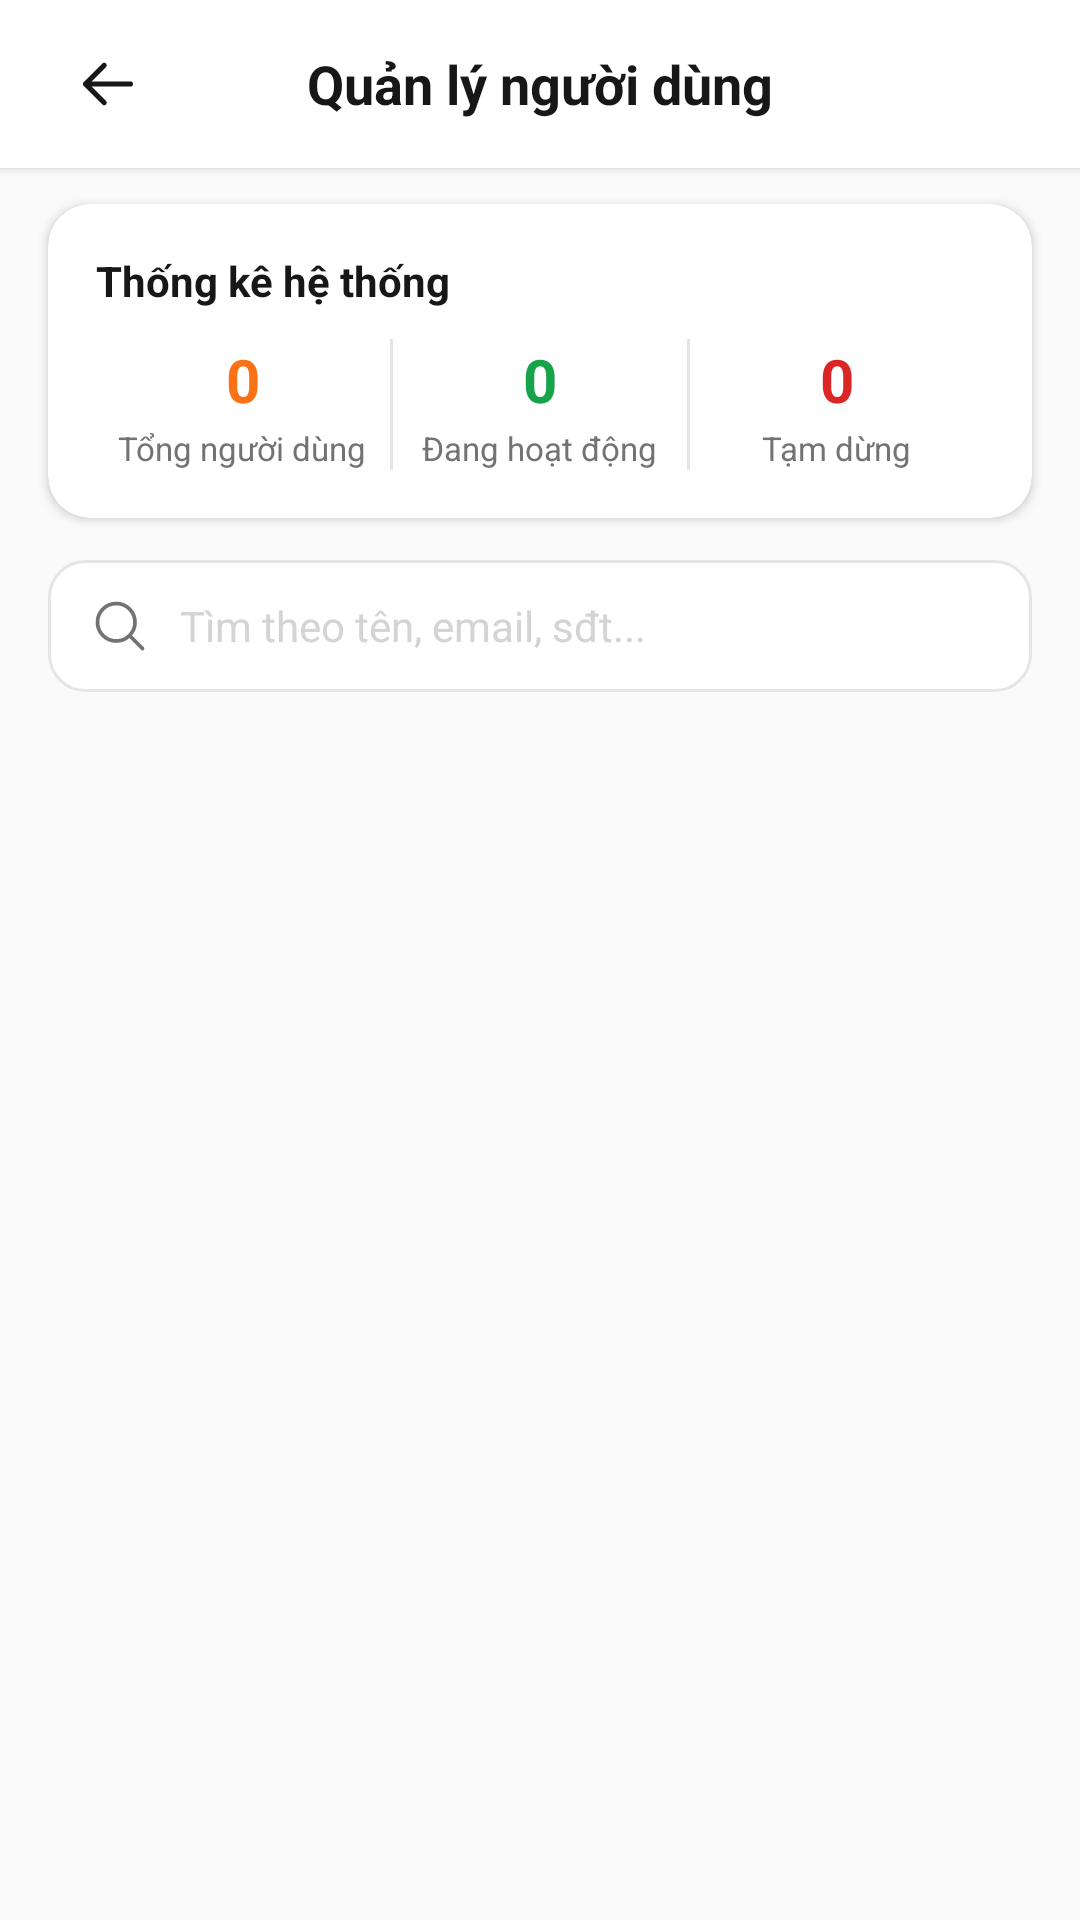

Screen size 1080 x 1920. Icon name, then its box in pixels as (x1, y1, x2, y2):
arrow left: (83, 62, 133, 106)
search: (95, 601, 145, 651)
